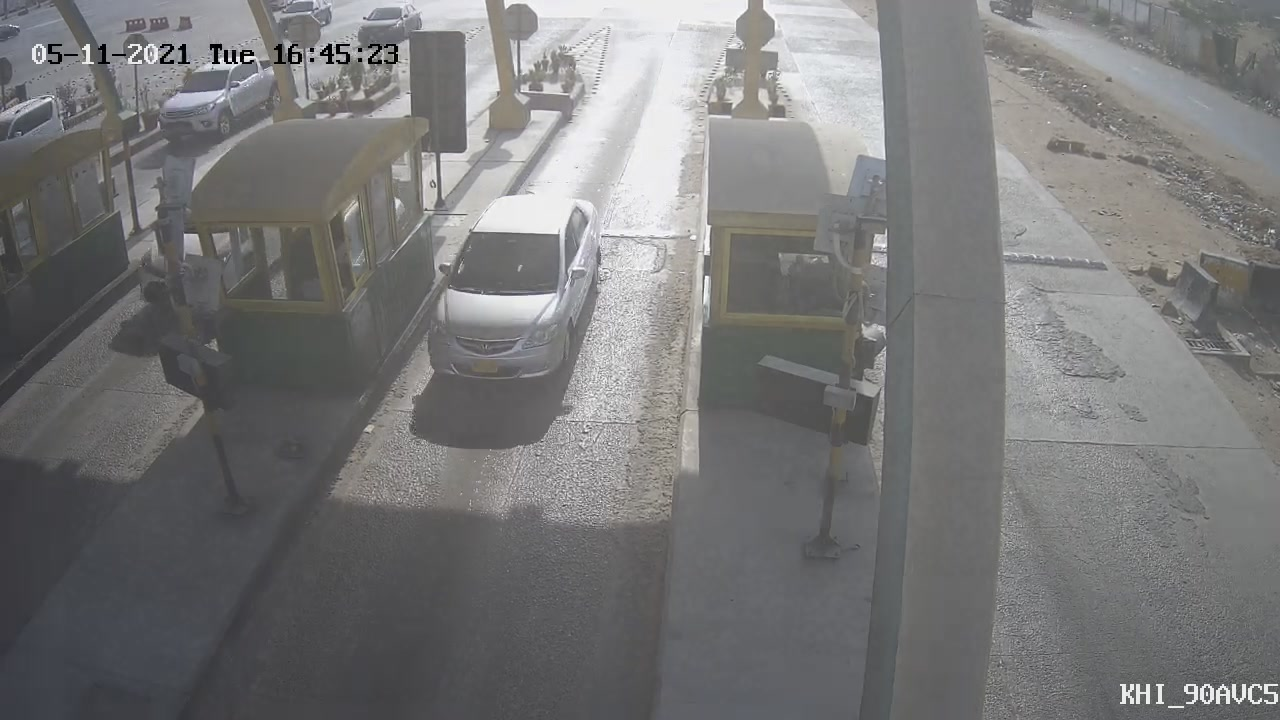F1: (408, 178, 621, 398)
